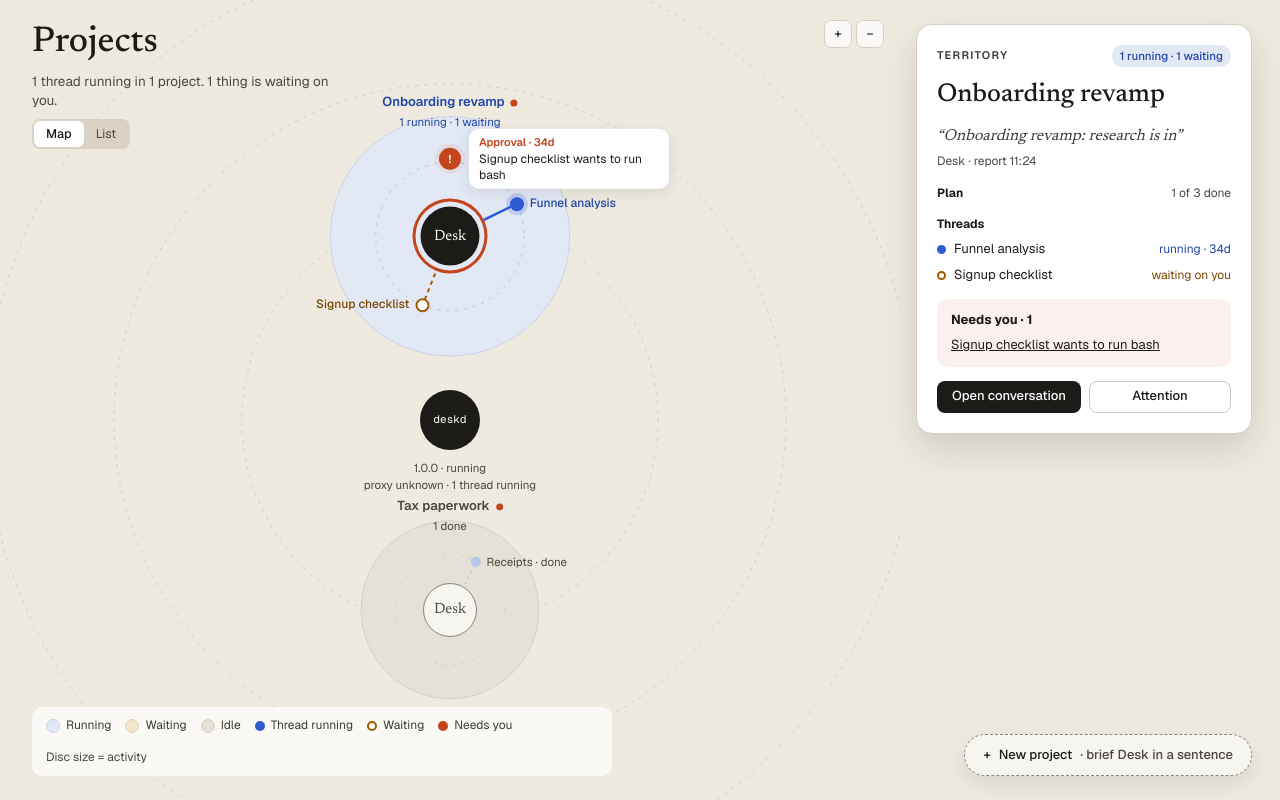
MapScreen › draws a territory per project and fills the inspector for the selected one
Expected: the button with aria-label "Onboarding revamp: show details" is shown, [420, 207, 480, 266]
Expected: the element "Territory" shows "Onboarding revamp", [937, 82, 1165, 108]
Click the button with aria-label "Tax paperwork: show details" at (450, 610), box [423, 583, 477, 637]
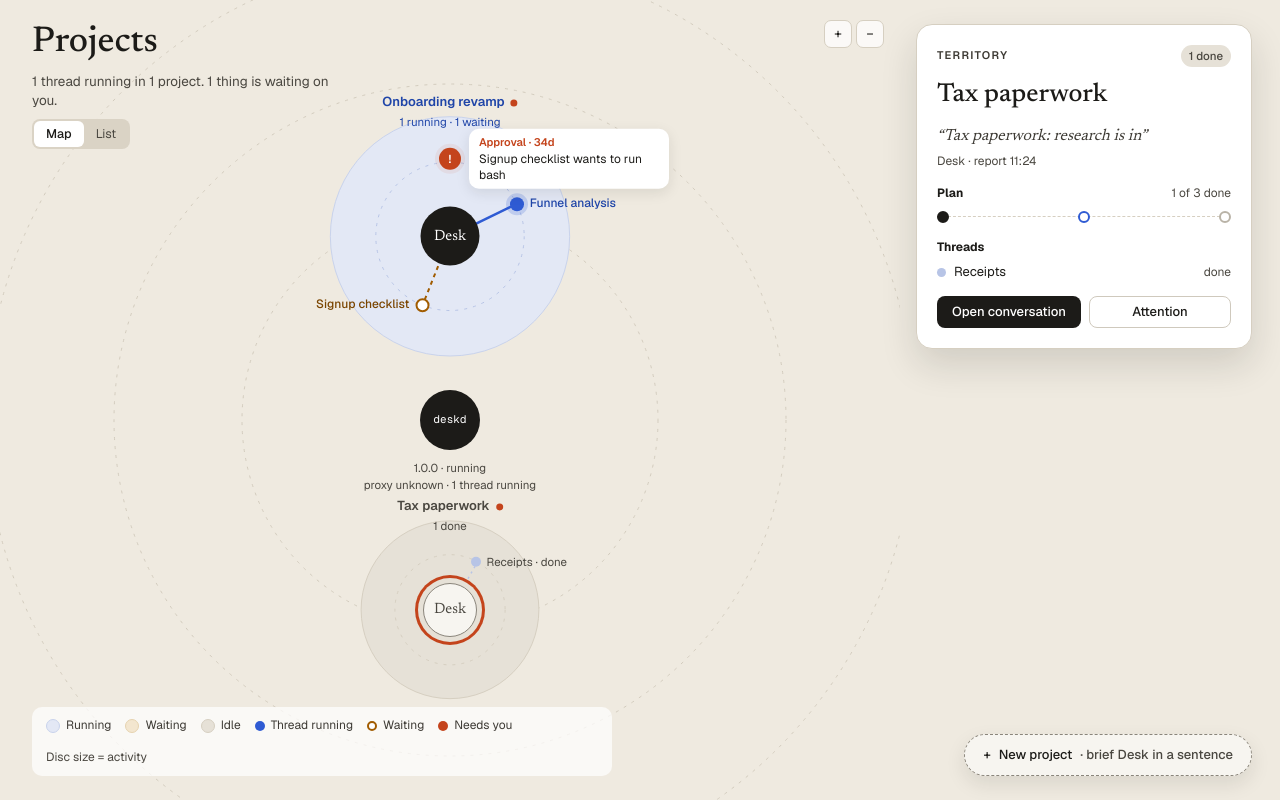
Now the element "Territory" shows "Tax paperwork", box [937, 82, 1107, 108]
